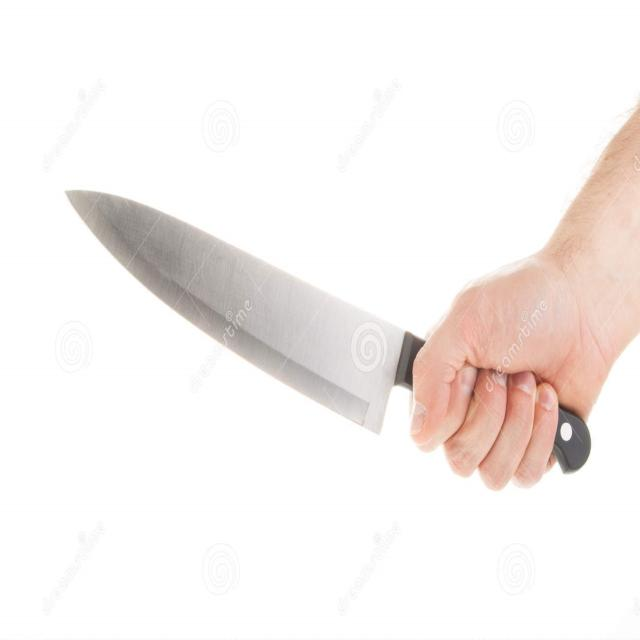knife: (61, 175, 600, 482)
